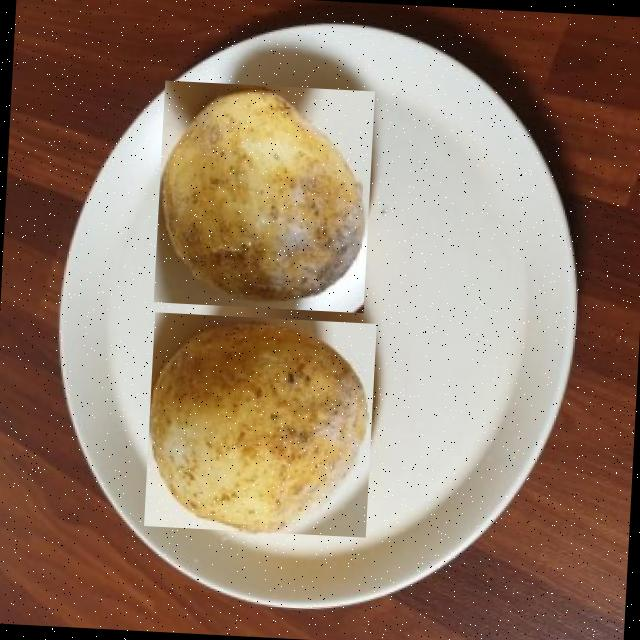Potato: (144, 312, 377, 536), (154, 80, 375, 312)
